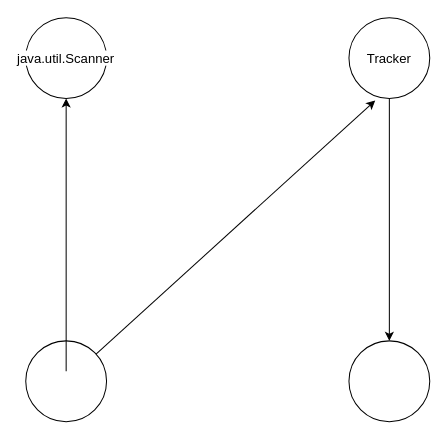
This 447x439 diagram has some shape labels left out. The shapes that lost their labels are listed below. From the top down, each one's centre as x and y in pixels, then its label:
At [66,381]: "StartUI".
At [389,381]: "Item".
